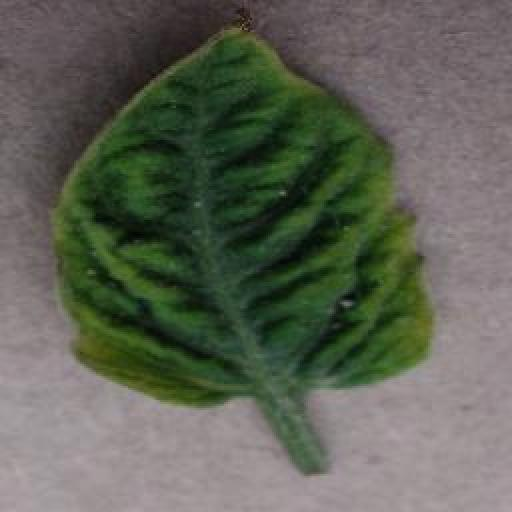disease_tomato: (48, 23, 434, 409)
